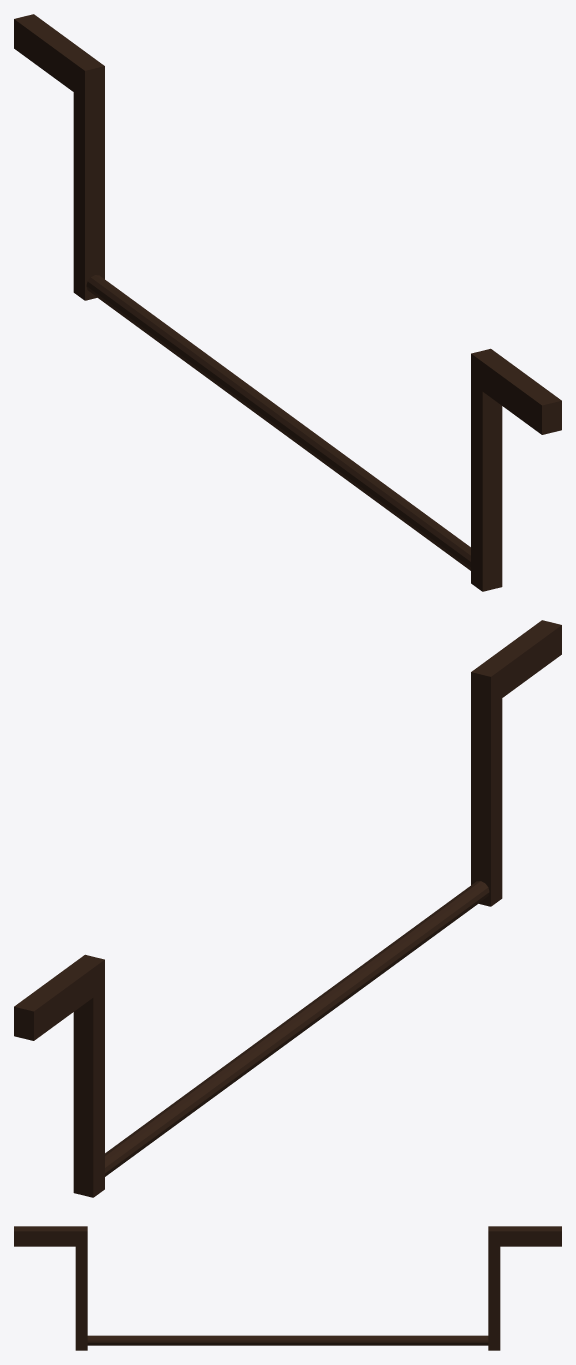
File: JumpRope.fbx
3 renders of one model, top to bottom at view 1: azimuth 30°, elevation 25°; view 2: azimuth 150°, elevation 25°; view 3: azimuth 270°, elevation 25°, orthographic. The views are drawn at different scales.
Visible parts, largest first — view 1: Cube, Cube.001, Cylinder; view 2: Cube.001, Cube, Cylinder; view 3: Cylinder, Cube, Cube.001.
Part boxes in pixels (x1,y1,x2,y2): Cube: (471,348,561,591); Cube.001: (14,14,104,300); Cylinder: (86,275,470,570); Cube.001: (14,954,104,1197); Cube: (471,620,561,906); Cylinder: (105,881,489,1176); Cylinder: (87,1335,488,1345); Cube: (14,1226,87,1350); Cube.001: (488,1226,561,1350).
Size of the model in its own units: 58.46 by 646 by 2690.
